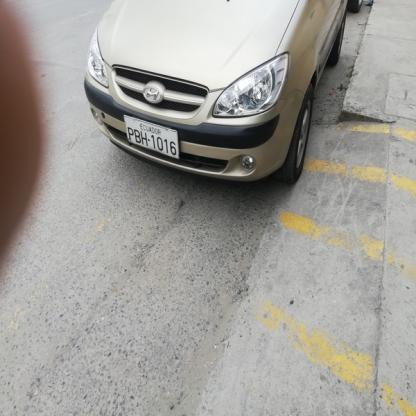Placa: (120, 113, 182, 164)
